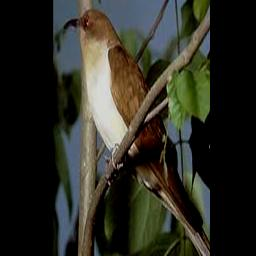Cuckoo: (62, 4, 210, 256)
